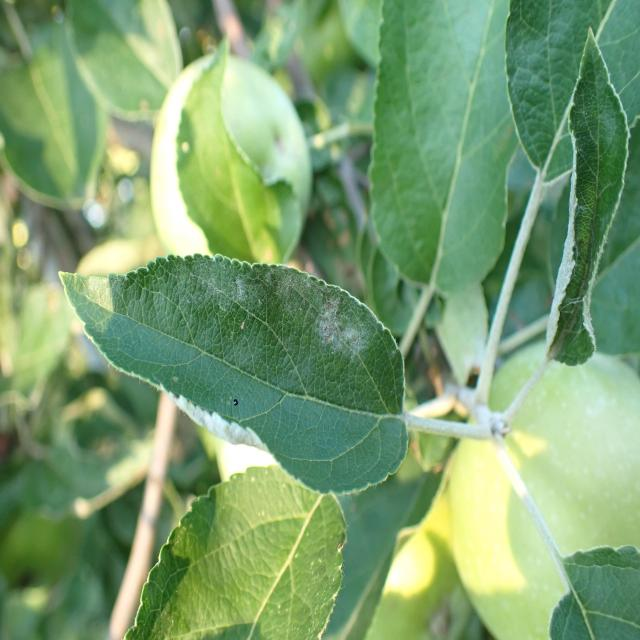Powdery_mildew: (46, 223, 395, 495), (548, 19, 626, 407)
